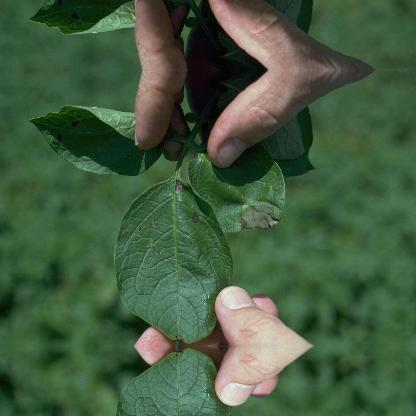Late-Blight: (26, 94, 310, 286), (26, 0, 309, 44)
